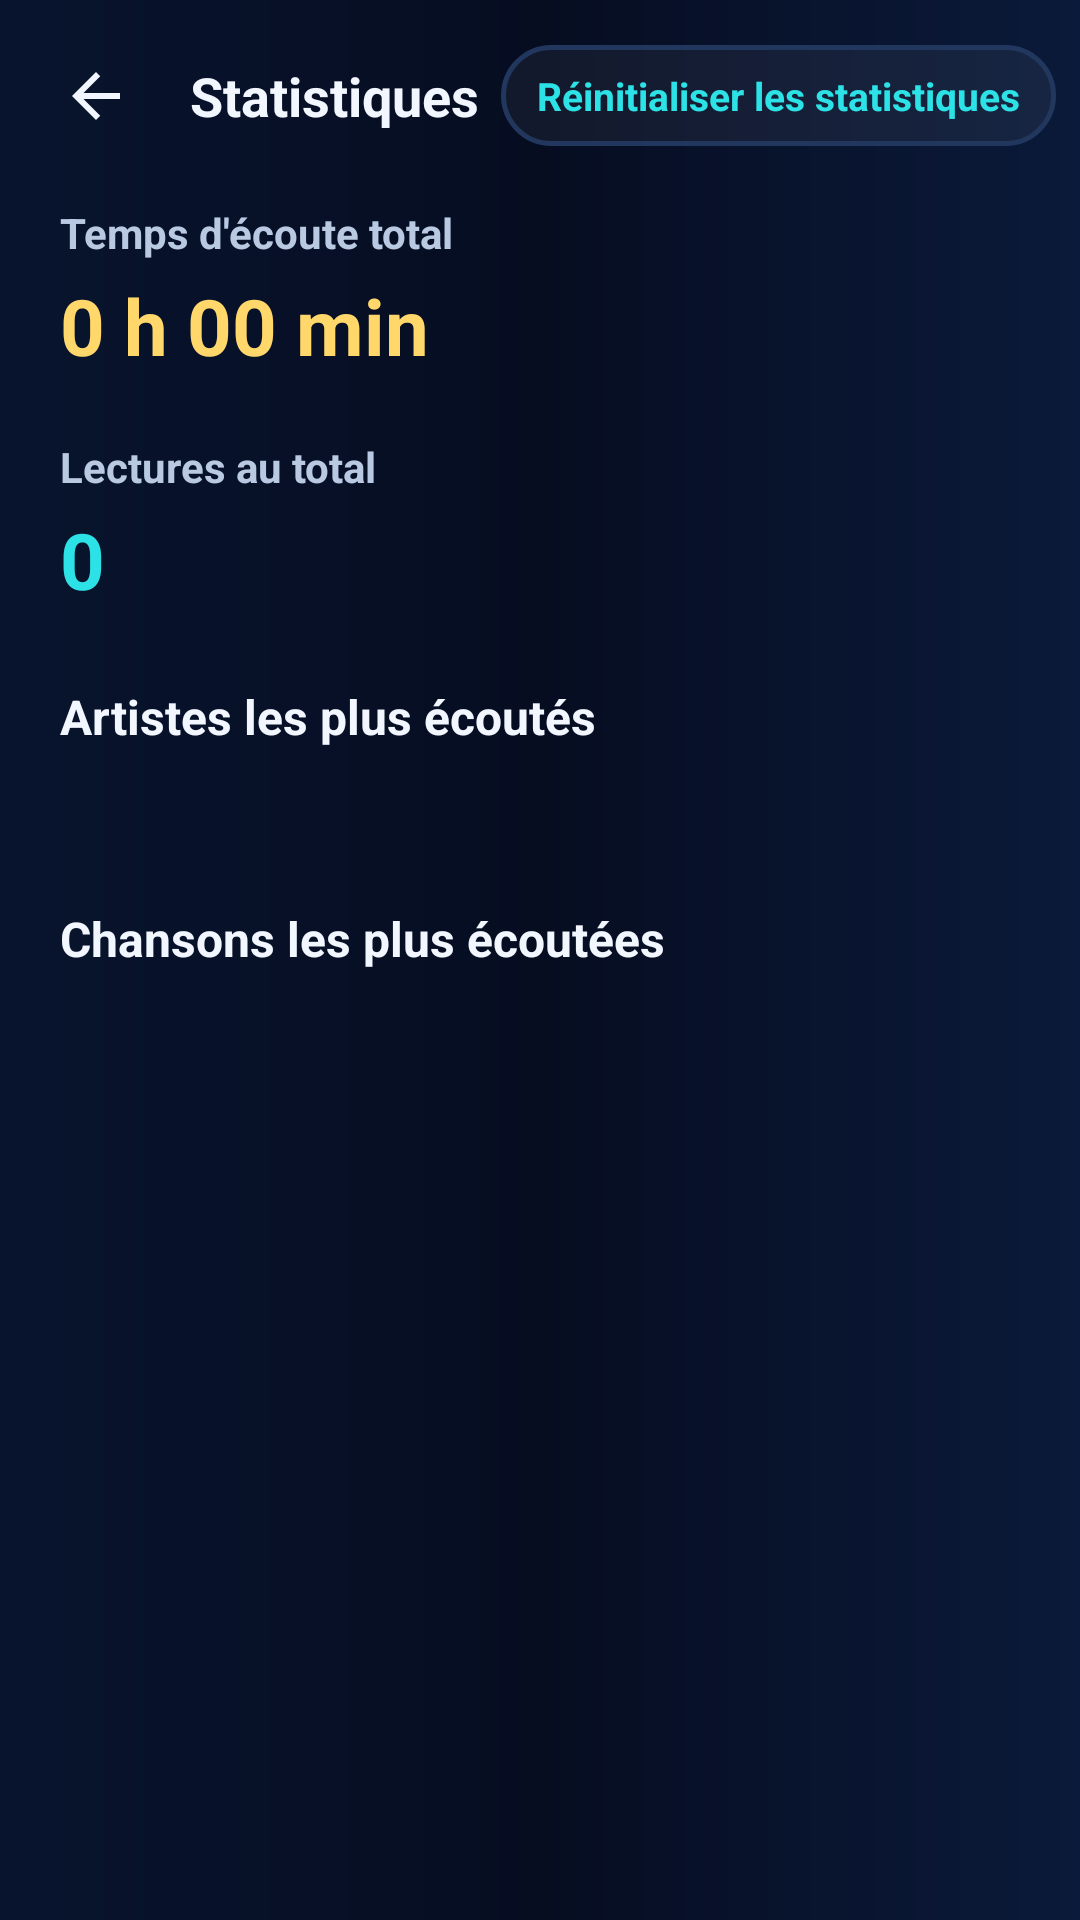

Named icons in this screenshot (1080 x 1920) and their centers, (x,y):
Retour: (96,96)
